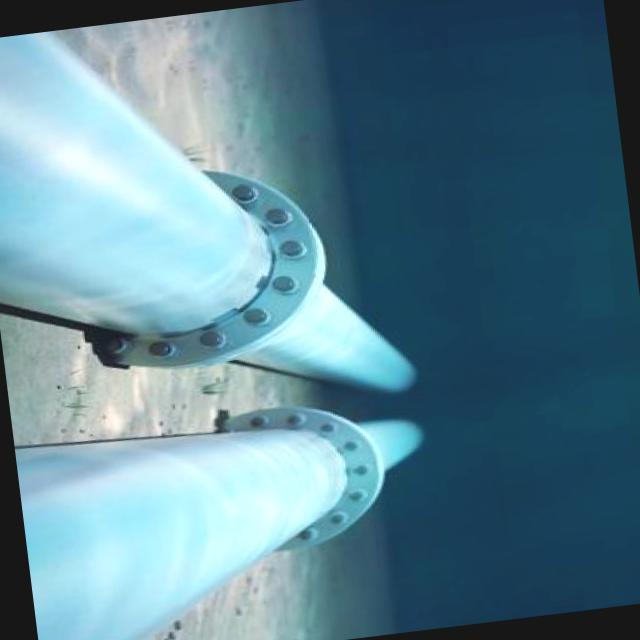gas: (0, 31, 412, 395), (13, 419, 415, 640)
